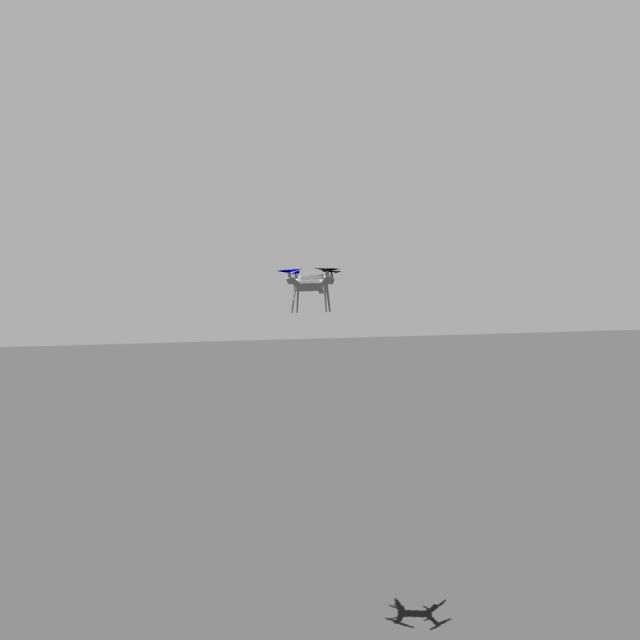Drone: (278, 258, 344, 322)
